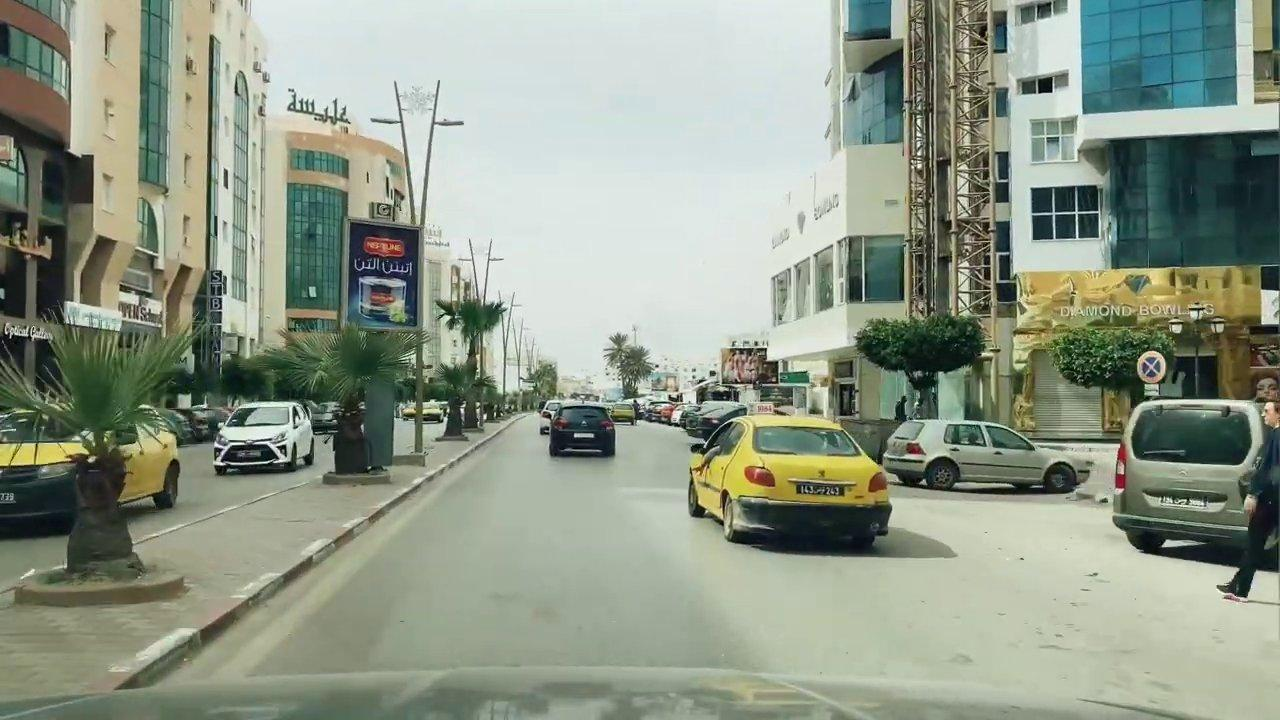no stopping: (1135, 351, 1166, 385)
